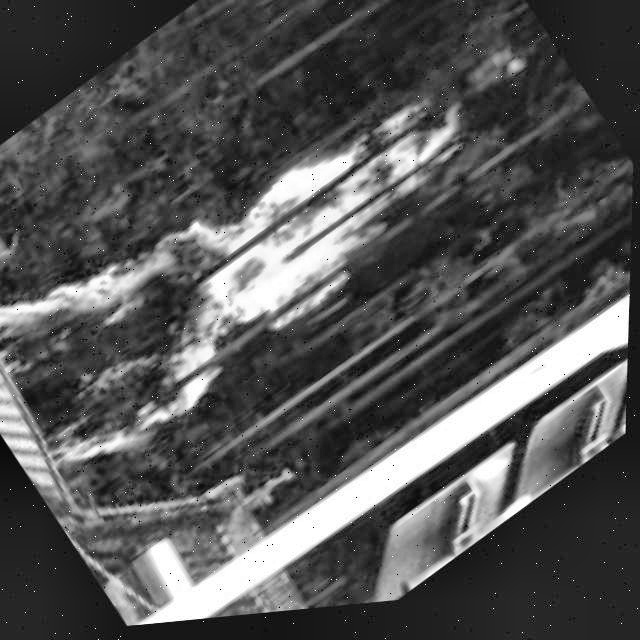Fire: (0, 15, 505, 505)
